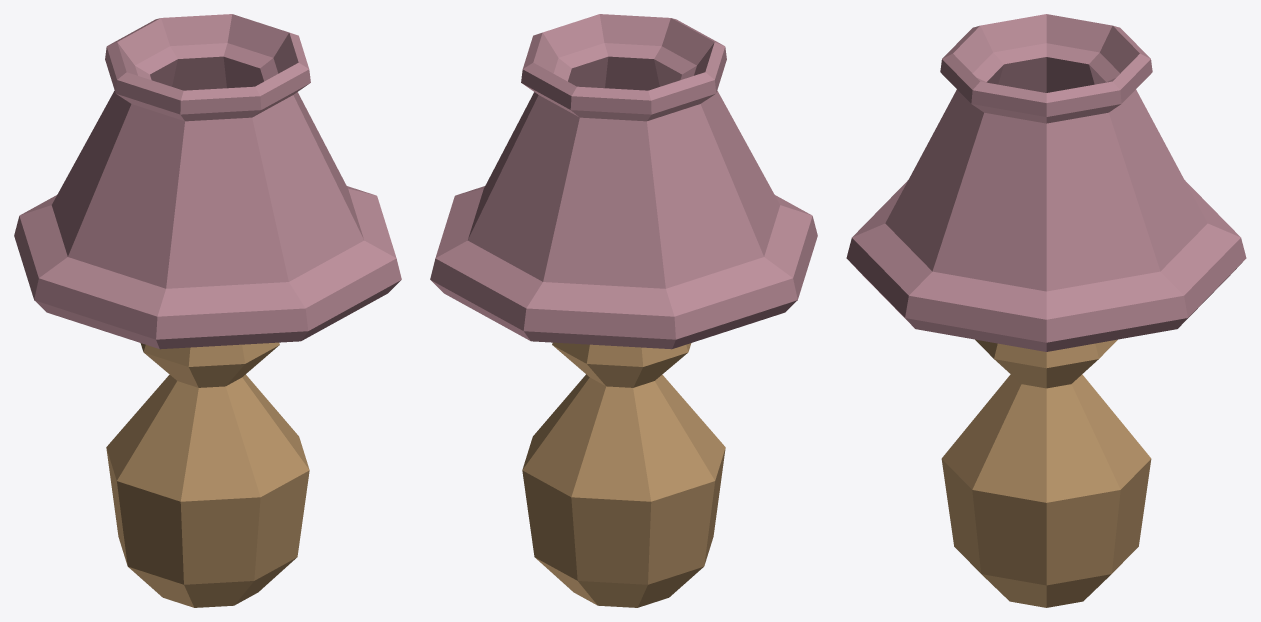
File: mod_lamp.fbx
3 views of the same model, side by side, from view 1: azimuth 30°, elevation 25°; view 2: azimuth 150°, elevation 25°; view 3: azimuth 270°, elevation 25° (orthographic).
Parts seen in each view (by area): view 1: mod_lamp; view 2: mod_lamp; view 3: mod_lamp.
Boxes of the visible parts, bbox=[...] form: mod_lamp: bbox=[14, 14, 401, 607]; mod_lamp: bbox=[430, 14, 817, 607]; mod_lamp: bbox=[846, 14, 1246, 607].
Size of the model in its own units: 31.66 by 46.5 by 31.66.
